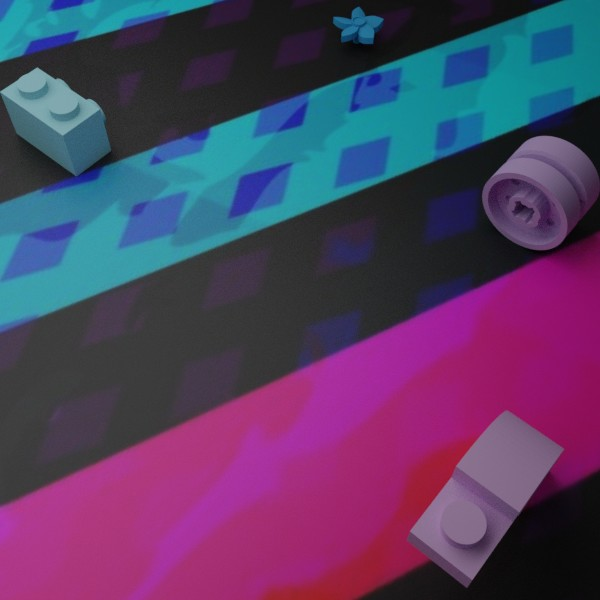lego: (406, 410, 564, 588), (482, 135, 600, 250), (0, 67, 111, 176), (333, 6, 383, 43)
